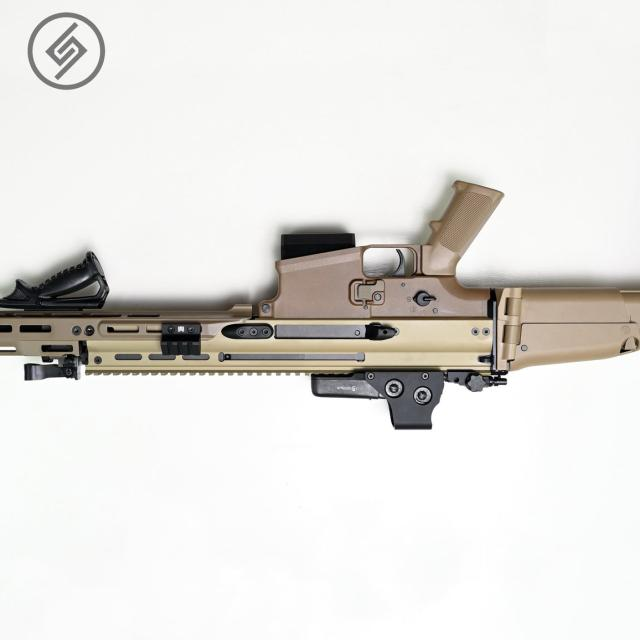Gun: (0, 144, 635, 448)
